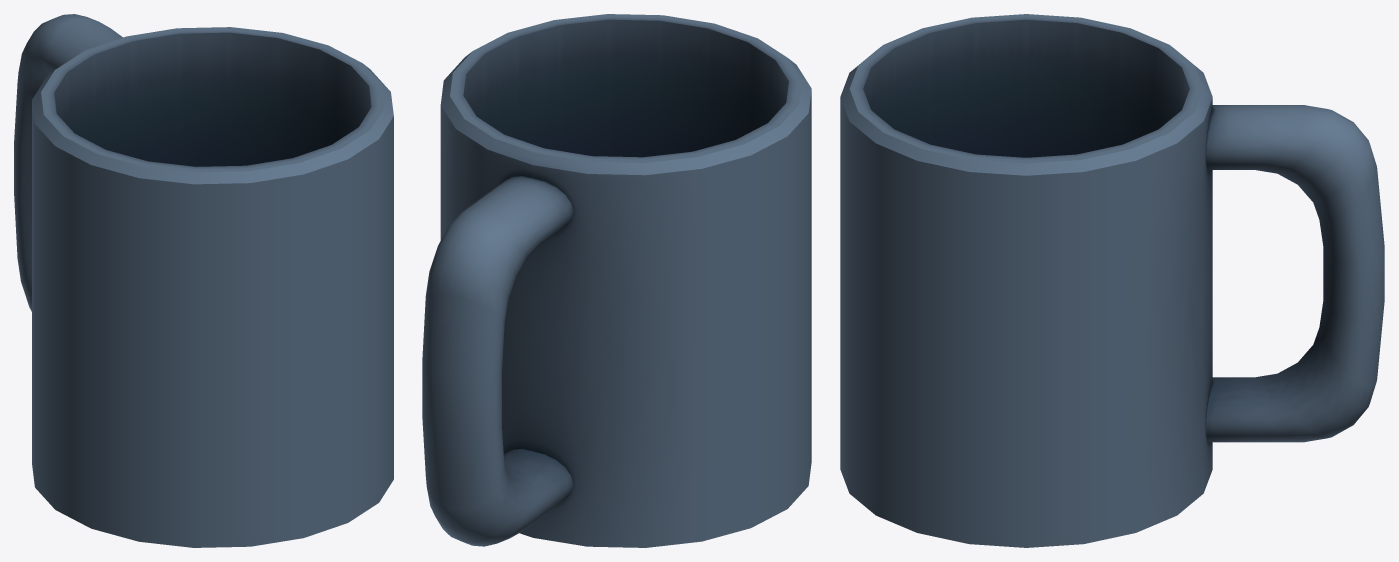
The model's file is Mug.fbx.
3 renders of one model, left to right at view 1: azimuth 30°, elevation 25°; view 2: azimuth 150°, elevation 25°; view 3: azimuth 270°, elevation 25°, orthographic. The views are drawn at different scales.
Parts seen in each view (by area): view 1: coffeemug; view 2: coffeemug; view 3: coffeemug.
Boxes of the visible parts, box(x1,y1,x2,y2) form: coffeemug: box(14, 14, 393, 547); coffeemug: box(422, 14, 811, 547); coffeemug: box(840, 14, 1384, 547).
Size of the model in its own units: 0.1313 by 0.148 by 0.1919.
1 material, 1 textured.
